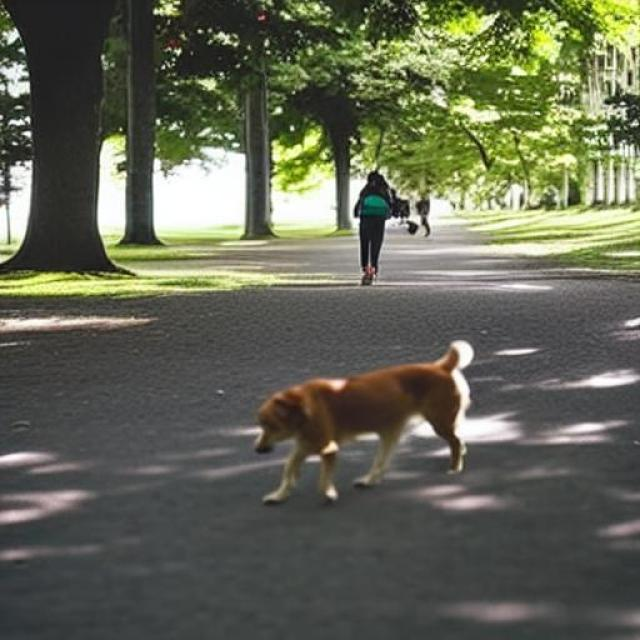Dog: (254, 341, 474, 505)
